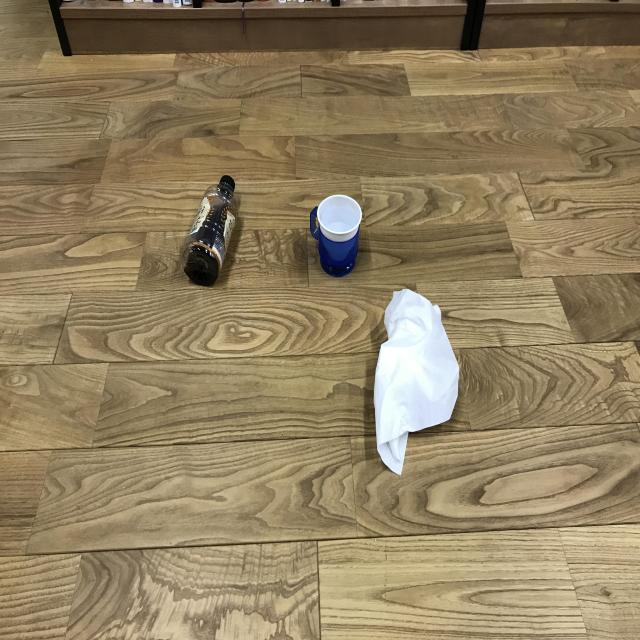litter: (372, 291, 461, 475), (181, 175, 239, 286), (307, 193, 361, 276)
